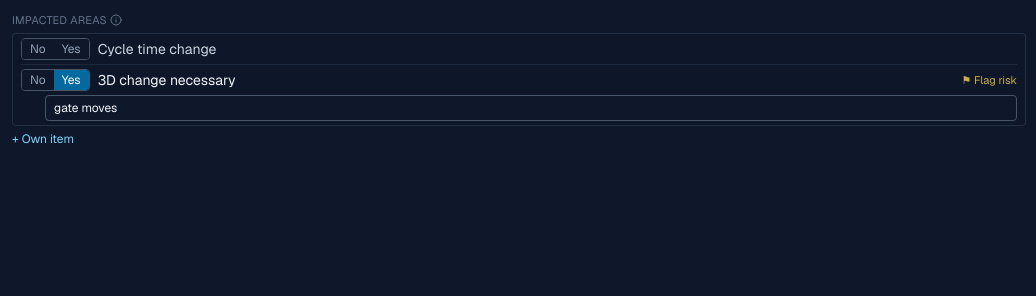
Scenario: ActivityChecklist risk flag › opens the pre-filled form from ⚑
What coordinates should you click on to do the following:
click the button with test id "check-flag-threed_change"
I would click on:
 (989, 80)
Its box is [961,70,1017,90].
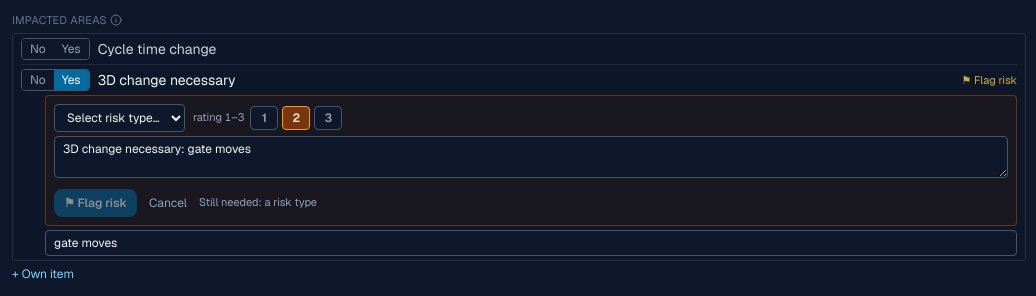
Now the text box with test id "check-risk-note" holds "3D change necessary: gate moves", box [54,136,1008,178]
